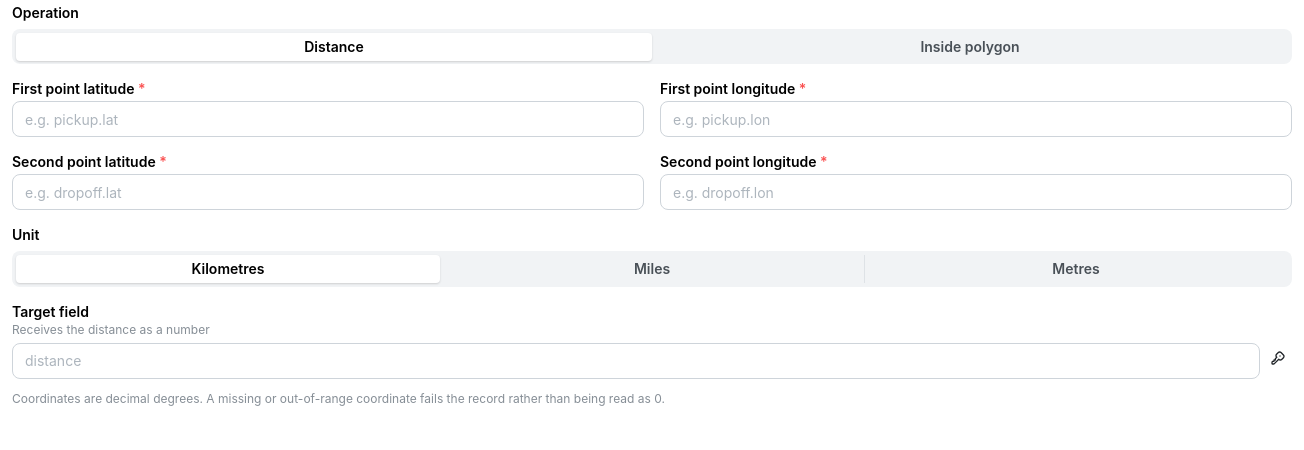
Scenario: structural node editors › geo switches between distance and polygon, and flags a polygon that is not JSON
The image size is (1304, 450).
Type "a.lat" into the dropdown labelled "First point latitude *" at coordinates (328, 119), box [12,101,644,137]
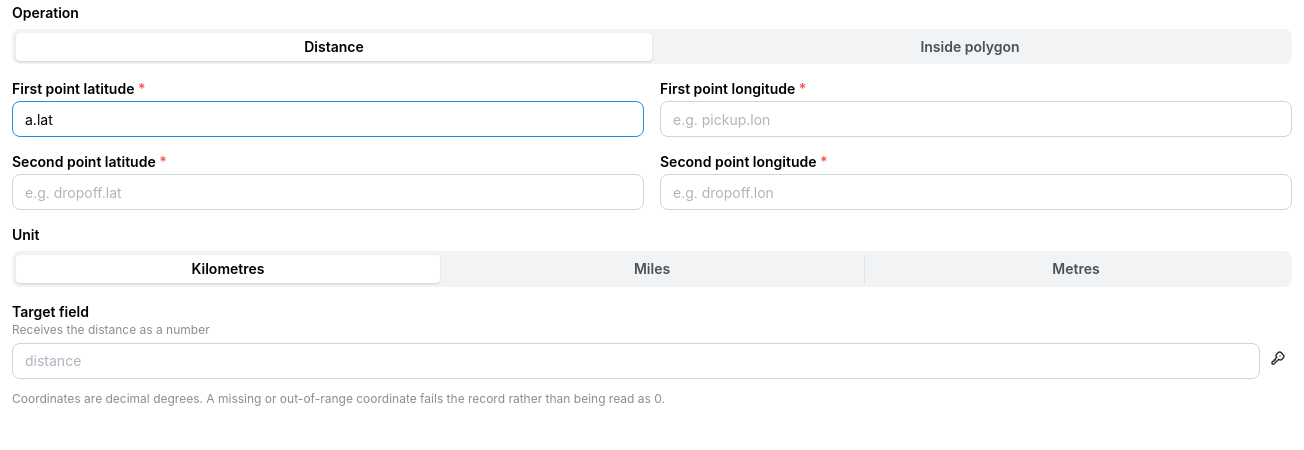
Click the radio button labelled "Miles" at coordinates (652, 268), box [634,260,670,277]
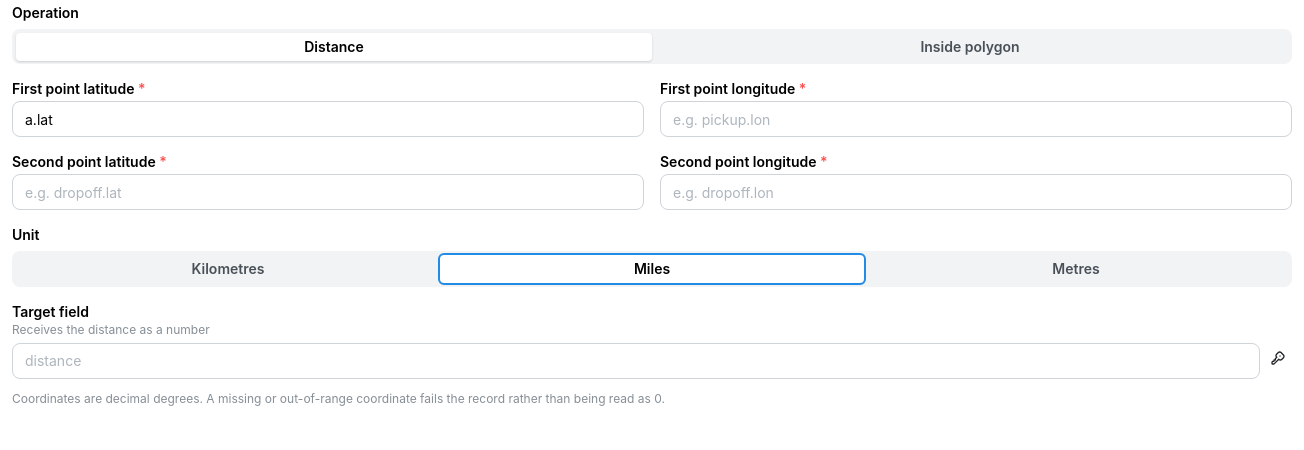
Click the radio button labelled "Inside polygon" at coordinates (970, 46), box [920,38,1020,55]
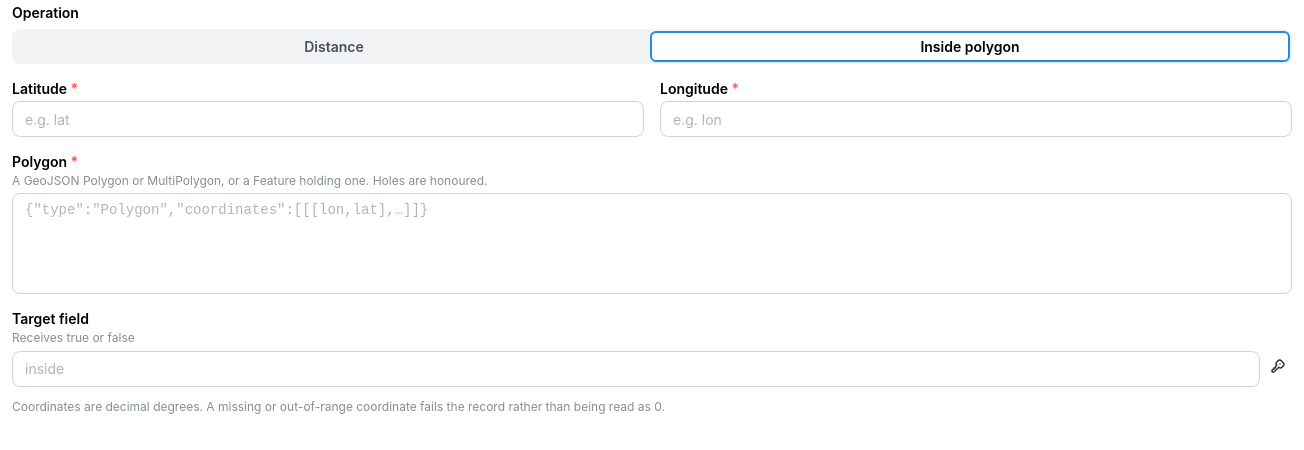
Click the text box labelled "Polygon *" at coordinates (652, 244), box [12,194,1292,294]
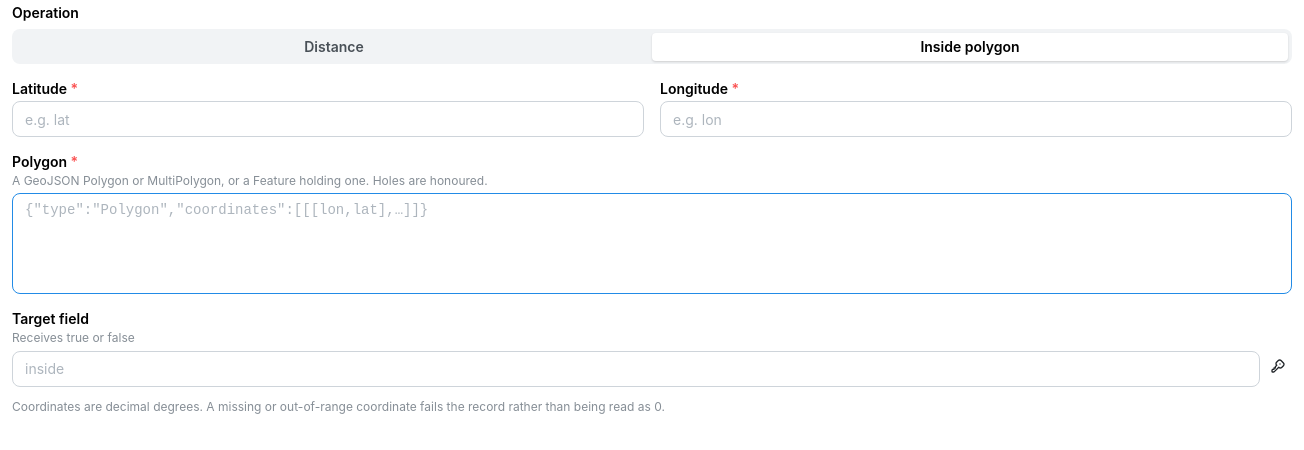
Type keys "{\"type\":"
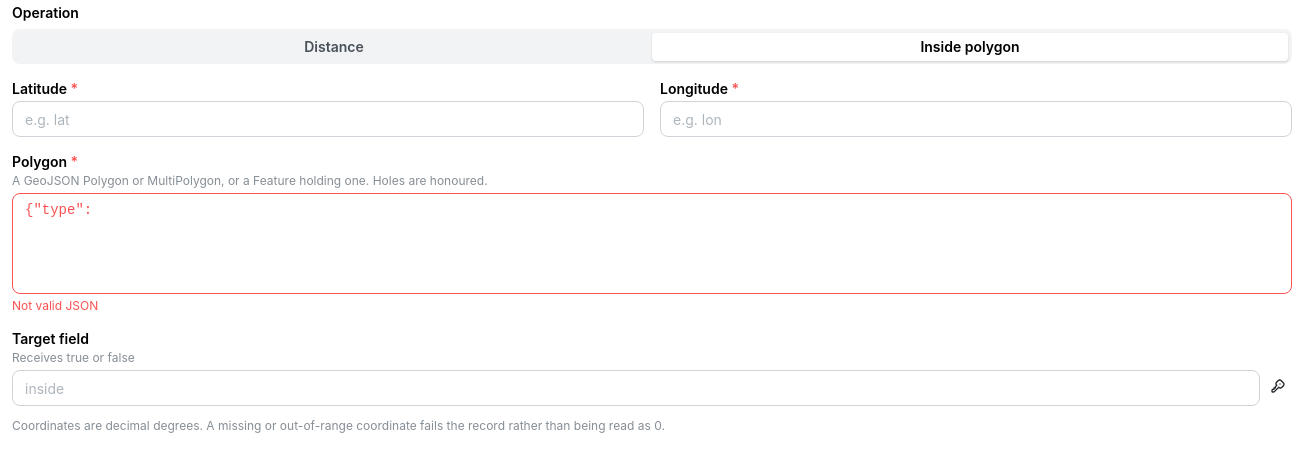
Expected: the text "Not valid JSON" is shown, [12,298,98,314]
